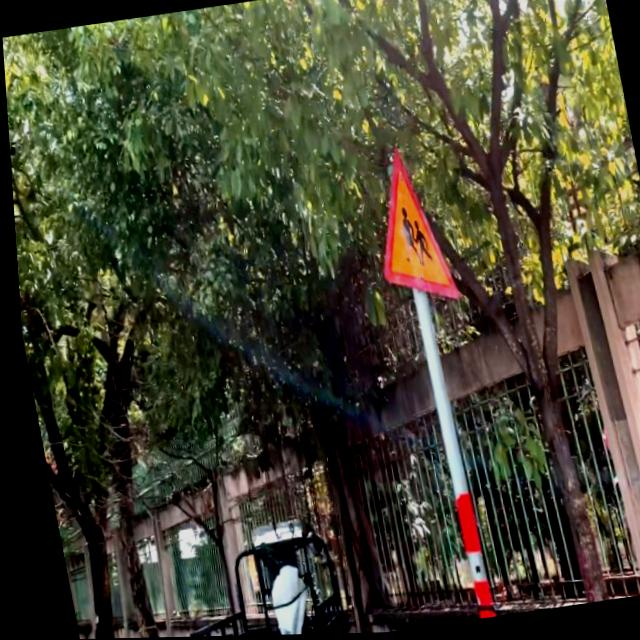Tre em: (350, 133, 465, 320)
